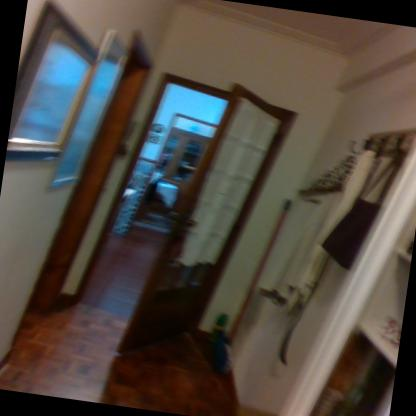semi: (68, 46, 312, 372)
